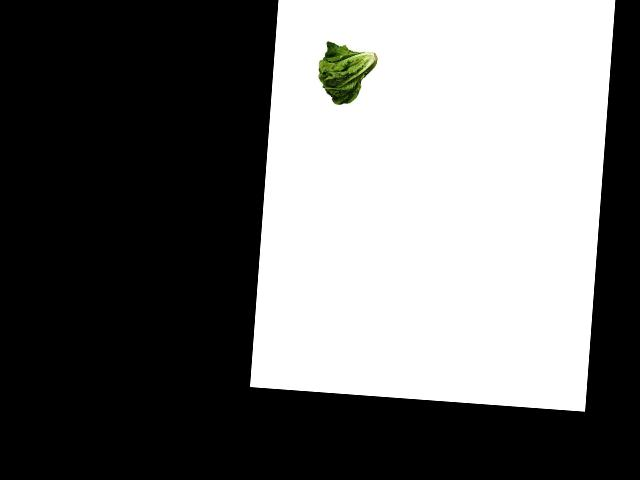lettuce: (313, 39, 382, 108)
